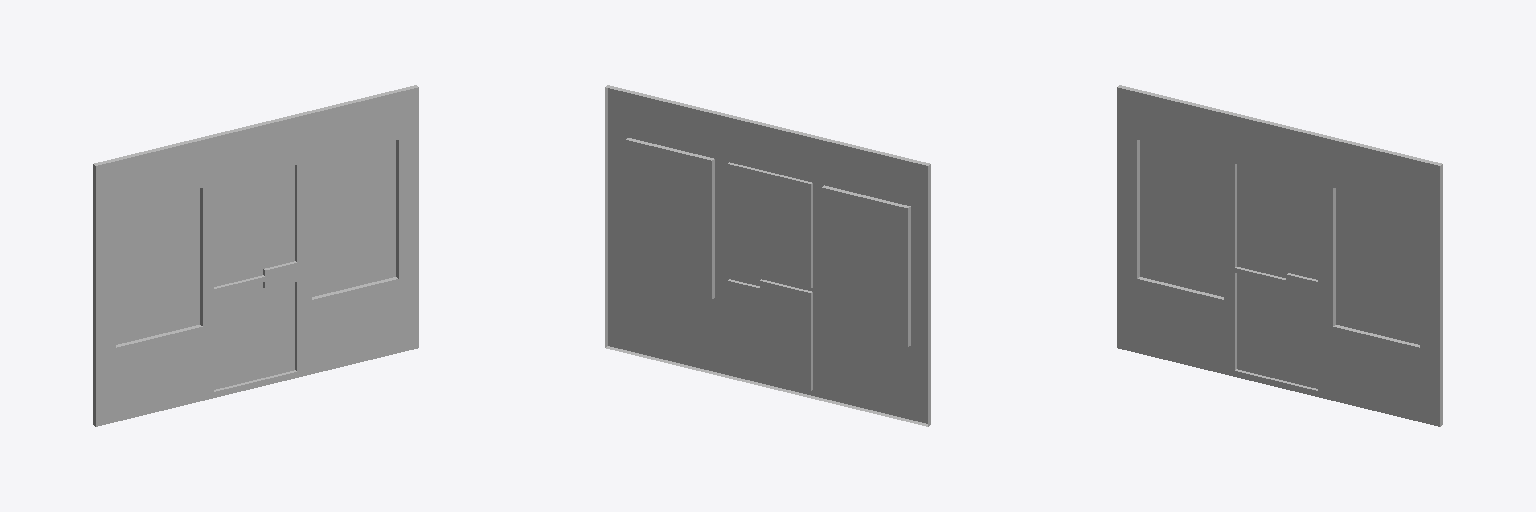
File: wall_front_door_asset.obj
3 renders of one model, left to right at view 1: azimuth 30°, elevation 25°; view 2: azimuth 150°, elevation 25°; view 3: azimuth 330°, elevation 25°, orthographic.
Parts seen in each view (by area): view 1: WallFrontDoor_Cube.005; view 2: WallFrontDoor_Cube.005; view 3: WallFrontDoor_Cube.005.
Part boxes in pixels (x1,y1,x2,y2): WallFrontDoor_Cube.005: (93, 85, 418, 426); WallFrontDoor_Cube.005: (605, 85, 930, 426); WallFrontDoor_Cube.005: (1117, 85, 1442, 426).
Size of the model in its own units: 450 by 347 by 7.29.